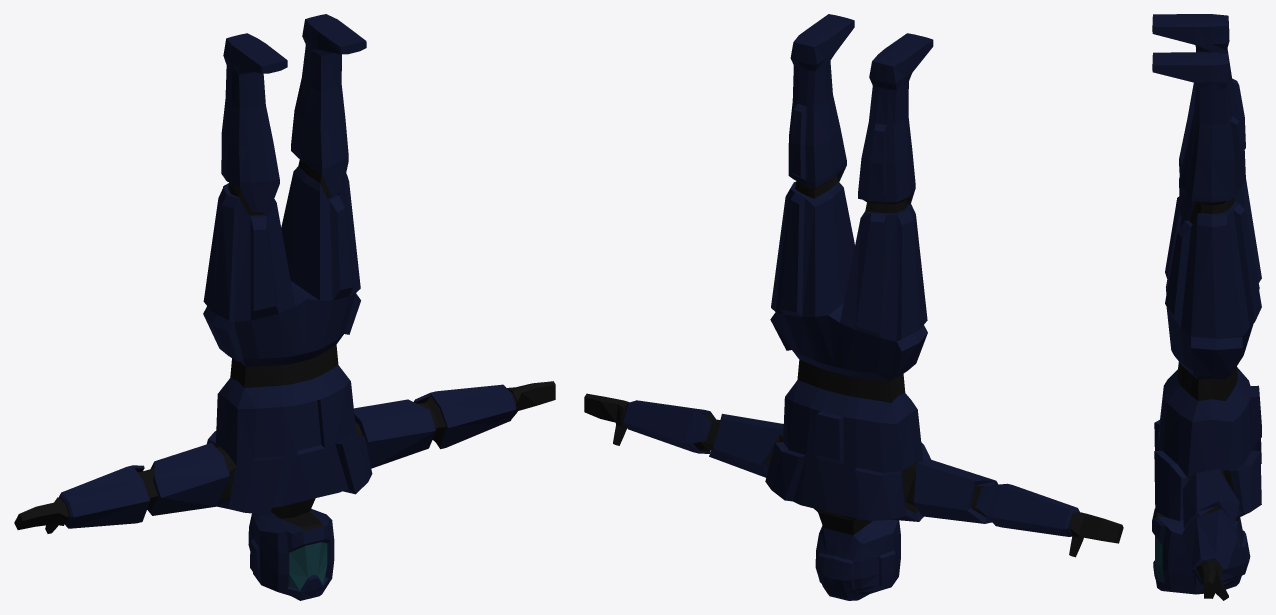
The model's file is Character.obj.
3 renders of one model, left to right at view 1: azimuth 30°, elevation 25°; view 2: azimuth 150°, elevation 25°; view 3: azimuth 270°, elevation 25°, orthographic.
Visible parts, largest first — view 1: Body; view 2: Body; view 3: Body.
Boxes of the visible parts, x1=… form: Body: x1=14, y1=14, x2=555, y2=600; Body: x1=584, y1=14, x2=1123, y2=600; Body: x1=1152, y1=14, x2=1261, y2=600.
Bounding box in the file's own units: 2.06 × 2.03 × 0.3671.
